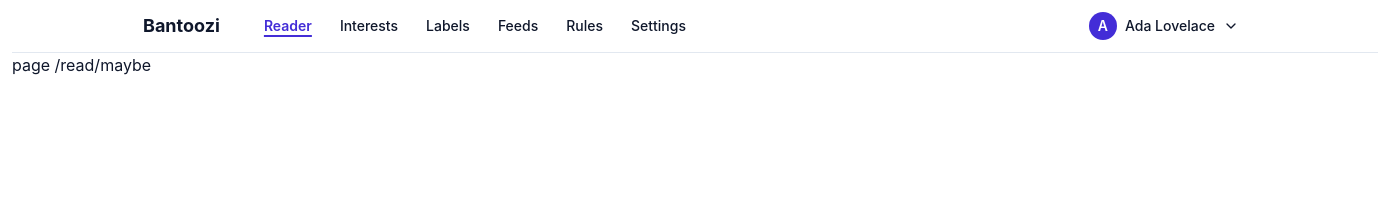
Test case: AppShellLayout › shows the account in a menu with Sign out
Click the button with aria-label "Account menu: Ada Lovelace" at [1164, 26], box [1073,4,1255,48]
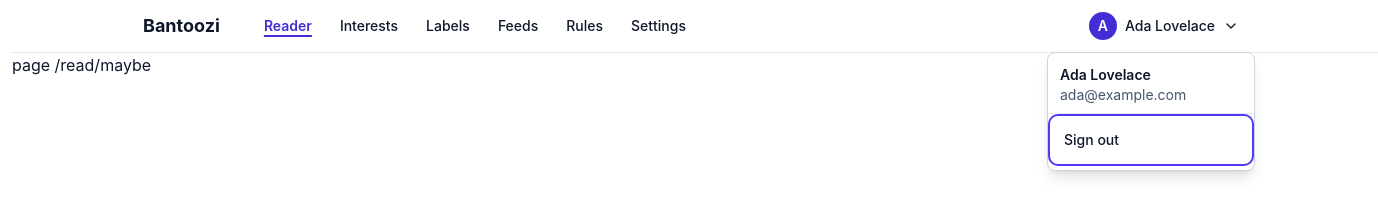
Expected: the 1st text "Ada Lovelace" is shown, [1125,16,1215,36]
Result: the text "ada@example.com" is shown at [1060,86,1186,103]
Click the menu item "Sign out" at [1151, 140], box [1052,118,1250,162]
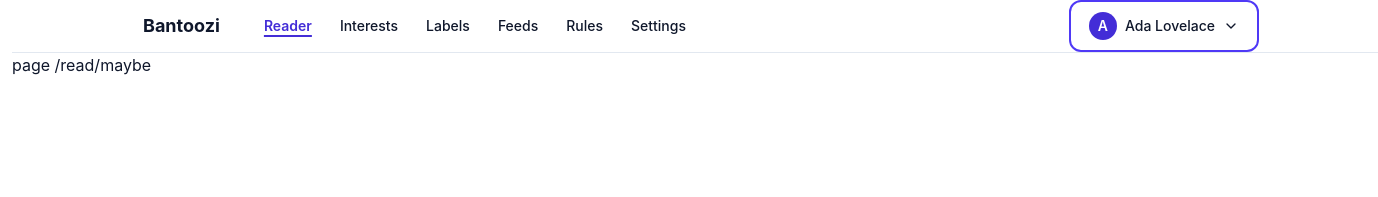
Result: the menu is gone
